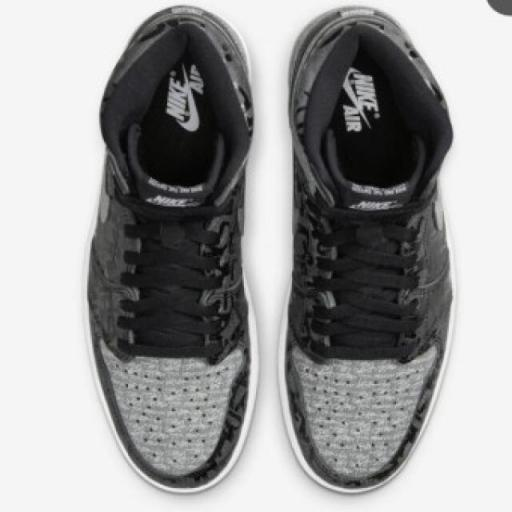Nike: (178, 78, 199, 132), (354, 74, 378, 112)
